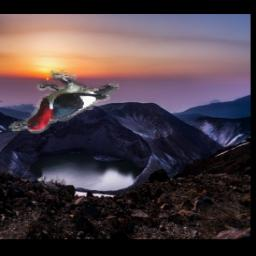Woodpecker: (10, 70, 120, 134)
